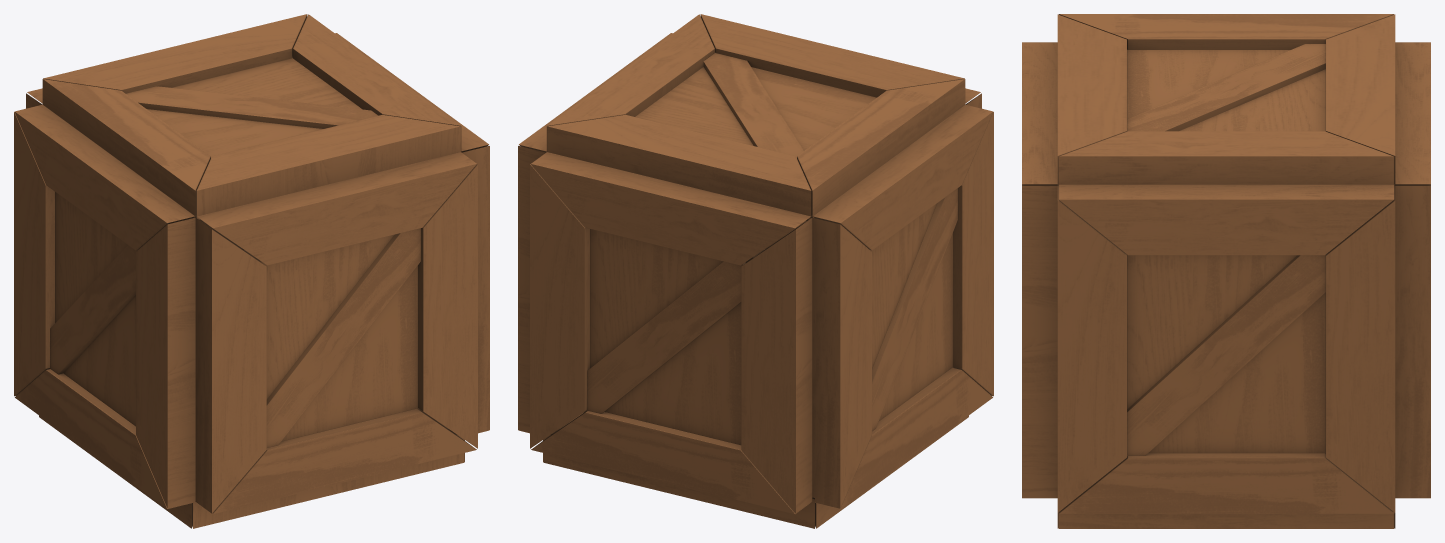
The model's file is IndestructibleCrate.fbx.
3 renders of one model, left to right at view 1: azimuth 30°, elevation 25°; view 2: azimuth 150°, elevation 25°; view 3: azimuth 270°, elevation 25°, orthographic. The views are drawn at different scales.
Visible parts, largest first — view 1: Cube.054; view 2: Cube.054; view 3: Cube.054.
Boxes of the visible parts, left/top/right/bottom form: Cube.054: left=14, top=14, right=489, bottom=528; Cube.054: left=518, top=14, right=993, bottom=528; Cube.054: left=1022, top=14, right=1430, bottom=528.
Bounding box in the file's own units: 244 × 244 × 244.
Materials: 1 (1 with a texture image).
